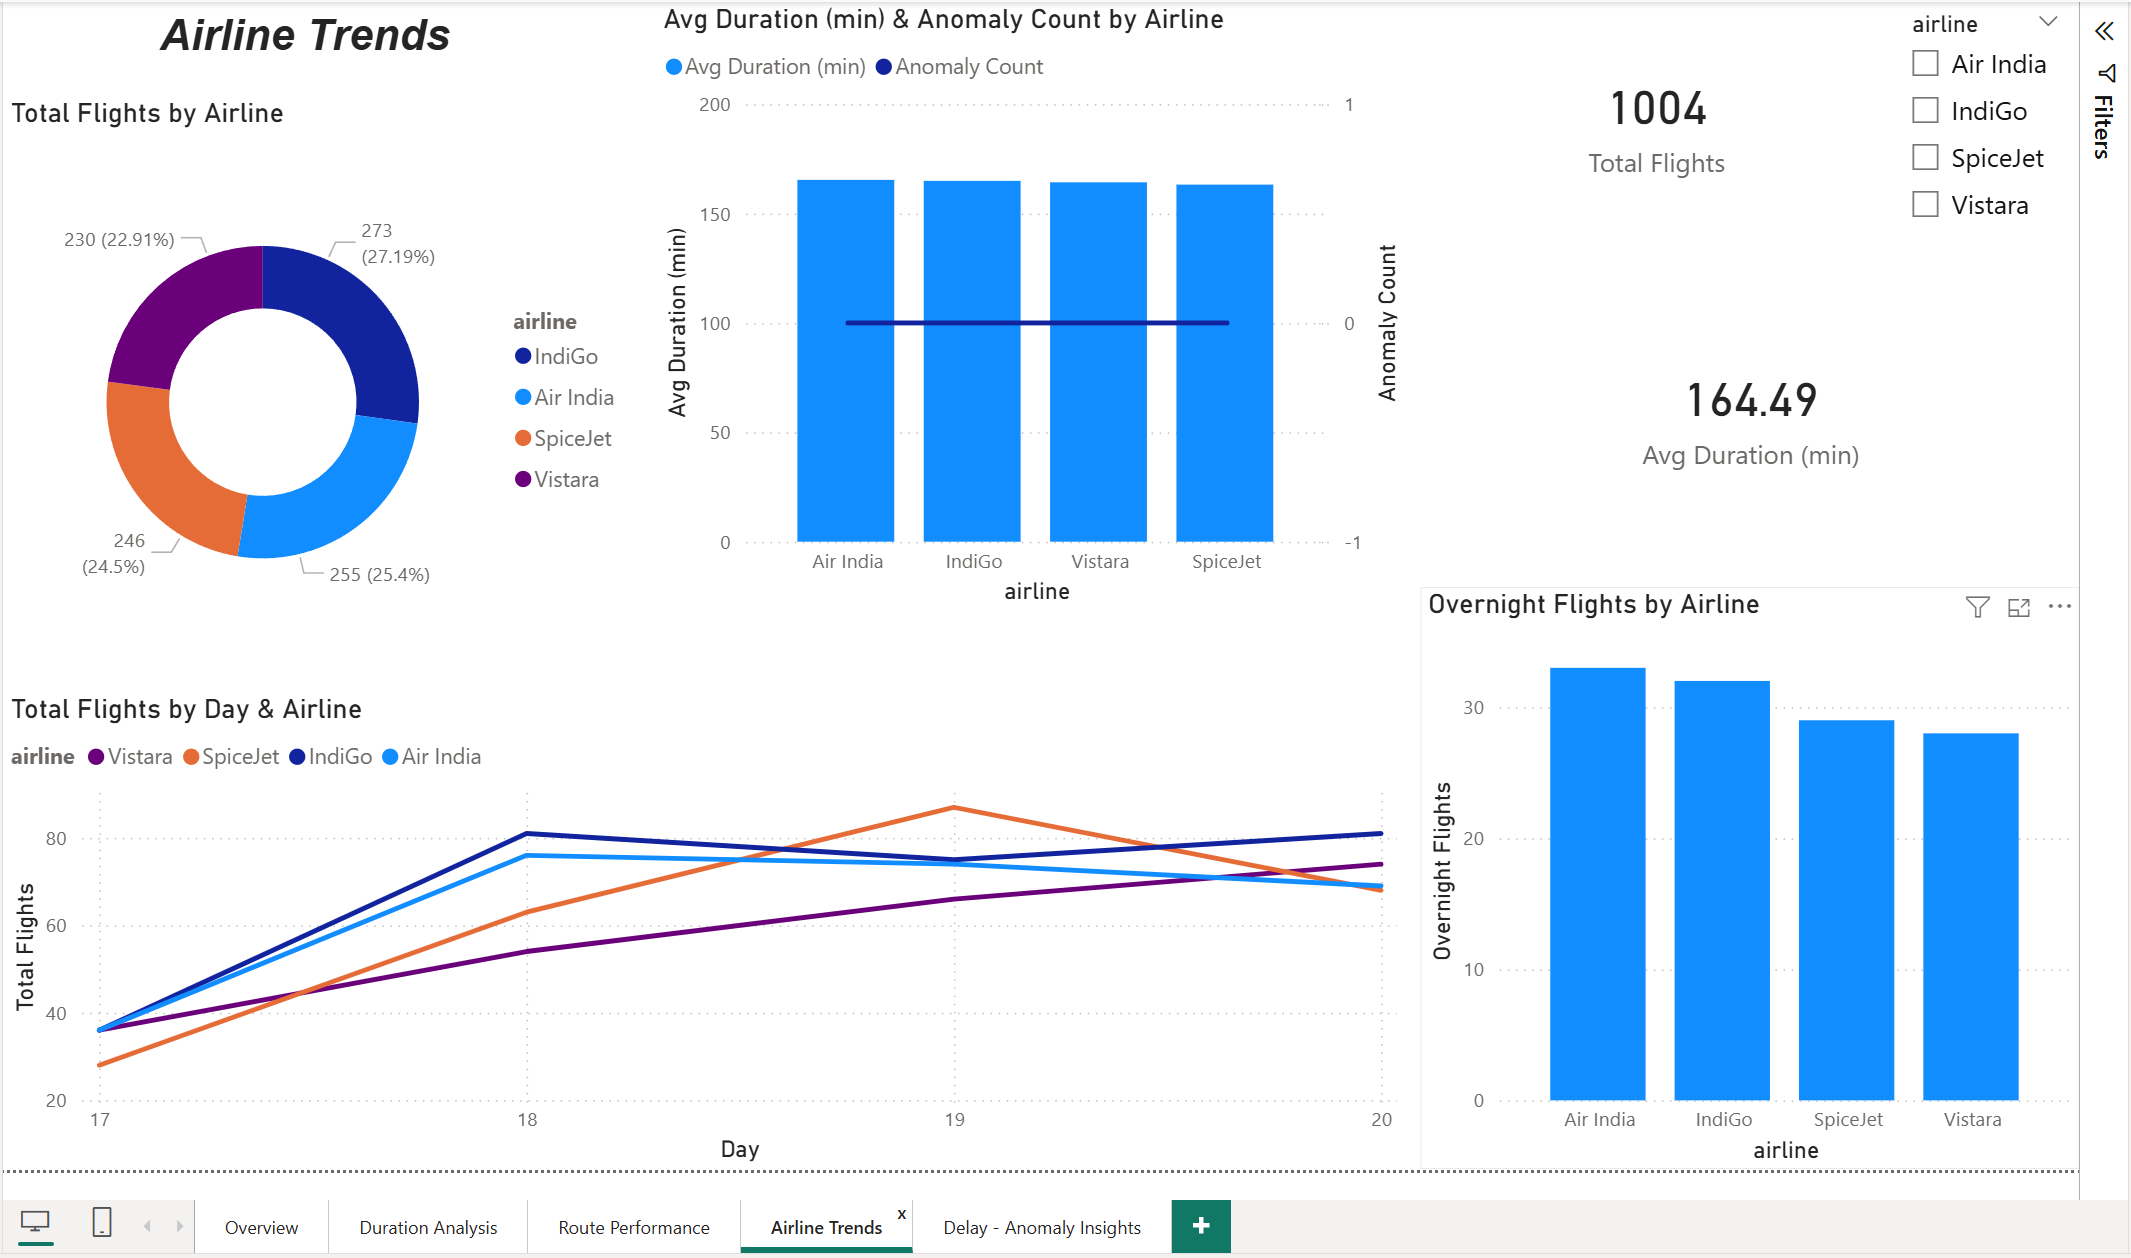

Layout of this report page (visuals, bound fields, positions):
{"tool":"powerbi","page":{"name":"Airline Trends","canvas":[1280,720],"ordinal":3},"visuals":[{"type":"textbox","box":[10.4,0,391.7,57.9],"z":0},{"type":"donutChart","title":"Total Flights by Airline","fields":{"Category":["flights_cleaned.airline"],"Y":["flights_cleaned.Total Flights"]},"box":[0,57.9,391.7,356.9],"z":1000},{"type":"lineClusteredColumnComboChart","title":"Avg Duration (min) & Anomaly Count by Airline","fields":{"Category":["flights_cleaned.airline"],"Y":["flights_cleaned.Avg Duration (min)"],"Y2":["flights_cleaned.Anomaly Count"]},"box":[402.1,0,462.3,375.4],"z":2000},{"type":"lineChart","title":"Total Flights by Day & Airline","fields":{"Category":["flights_cleaned.dep_date.Variation.Date Hierarchy.Day"],"Y":["flights_cleaned.Total Flights","select"],"Series":["flights_cleaned.airline"]},"box":[0,425.3,864.4,294.3],"z":3000},{"type":"slicer","fields":{"Values":["flights_cleaned.airline"]},"box":[1164.5,0,115.9,147.2],"z":4000},{"type":"card","fields":{"Values":["flights_cleaned.Total Flights"]},"box":[873.7,0,290.8,147.2],"z":5000},{"type":"card","fields":{"Values":["flights_cleaned.Avg Duration (min)"]},"box":[873.7,147.2,406.7,213.2],"z":6000},{"type":"clusteredColumnChart","title":"Overnight Flights by Airline","fields":{"Category":["flights_cleaned.airline"],"Y":["flights_cleaned.Overnight Flights"]},"box":[873.7,360.4,406.7,359.2],"z":7000}]}

Visuals, with their boxes on the page's 1280x720 design canvas (x1, y1, x2, y2). These are canvas units, not pixel positions in the 2131x1258 screenshot, which may show the page scaled, cropped or inside an application window:
textbox: select_region(10, 0, 402, 58)
"Total Flights by Airline" donutChart: select_region(0, 58, 392, 415)
"Avg Duration (min) & Anomaly Count by Airline" lineClusteredColumnComboChart: select_region(402, 0, 864, 375)
"Total Flights by Day & Airline" lineChart: select_region(0, 425, 864, 720)
slicer - flights_cleaned.airline: select_region(1164, 0, 1280, 147)
card - flights_cleaned.Total Flights: select_region(874, 0, 1164, 147)
card - flights_cleaned.Avg Duration (min): select_region(874, 147, 1280, 360)
"Overnight Flights by Airline" clusteredColumnChart: select_region(874, 360, 1280, 720)
